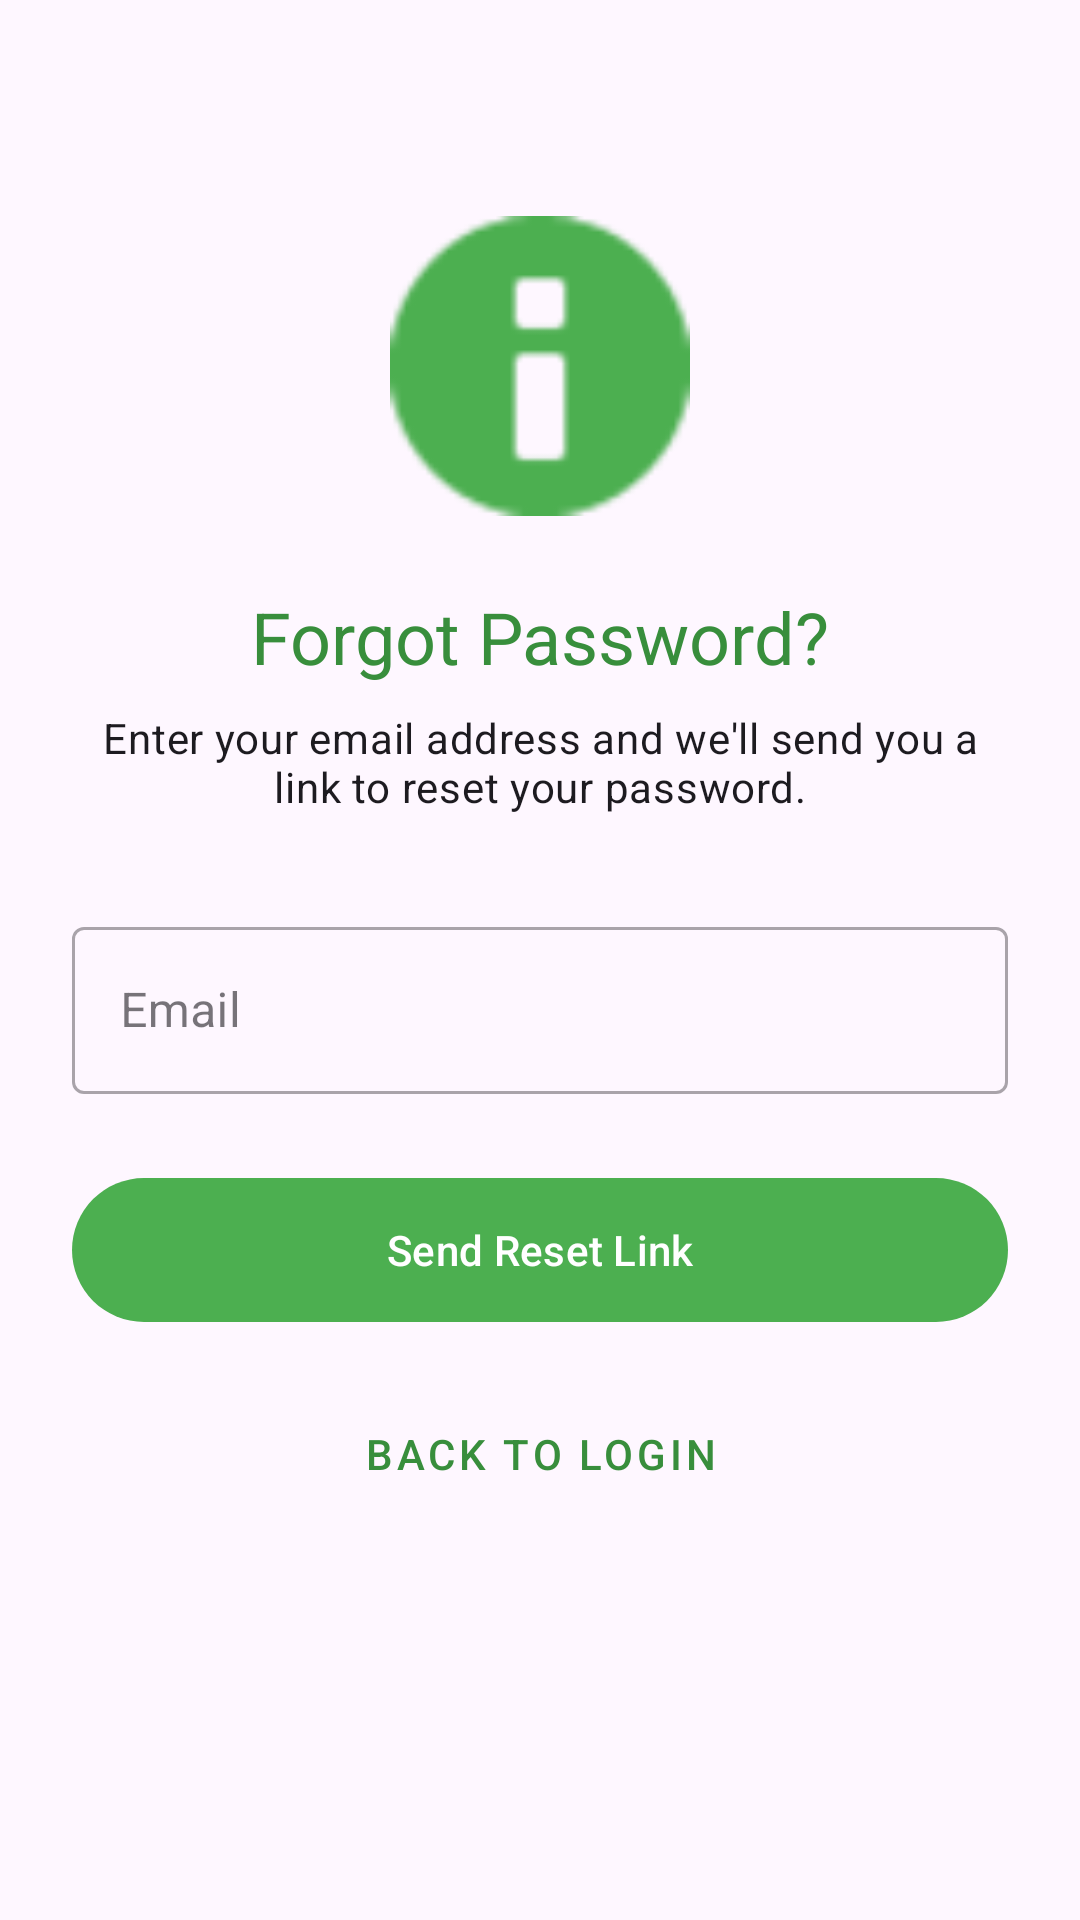

Icons on this 1080 × 1920 Android screen, each with its box as (x1=x1, y1=y1, x2=x2, y2=y2):
info: (x1=390, y1=216, x2=690, y2=516)
